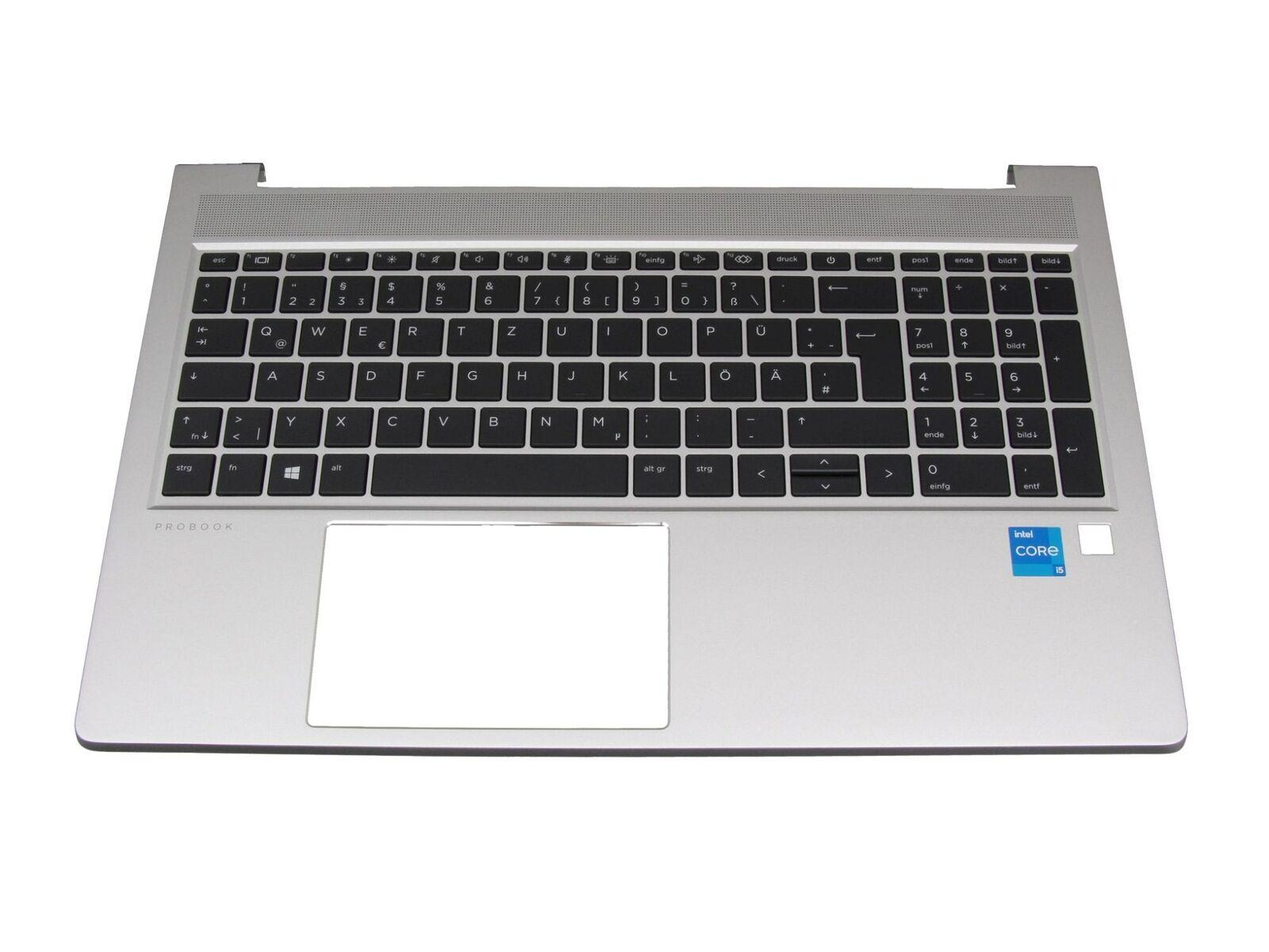0: (669, 272, 715, 311)
1: (230, 273, 275, 311)
2: (278, 273, 324, 310)
3: (327, 272, 372, 310)
4: (375, 272, 421, 310)
5: (424, 273, 470, 311)
6: (473, 272, 519, 311)
7: (522, 272, 568, 311)
8: (570, 272, 616, 311)
9: (619, 272, 666, 311)
a: (253, 358, 301, 400)
accent: (767, 272, 813, 310)
ae: (757, 359, 806, 400)
alt-left: (316, 451, 366, 495)
altgr-right: (630, 451, 679, 495)
b: (475, 403, 525, 446)
c: (373, 403, 423, 446)
caret: (190, 273, 228, 310)
comma: (630, 404, 678, 446)
d: (353, 358, 401, 400)
del: (815, 272, 895, 310)
e: (346, 314, 393, 355)
enter: (842, 315, 907, 400)
f: (403, 359, 450, 399)
g: (454, 359, 500, 400)
h: (504, 359, 552, 400)
hash: (808, 359, 856, 400)
i: (594, 314, 641, 355)
j: (554, 359, 602, 400)
k: (605, 358, 654, 401)
keyboard: (141, 236, 1118, 513)
l: (656, 359, 704, 400)
less: (221, 403, 270, 446)
m: (578, 404, 627, 446)
minus: (732, 404, 781, 446)
n: (527, 404, 576, 446)
o: (644, 314, 690, 355)
oe: (707, 359, 754, 400)
p: (694, 314, 741, 355)
plus: (794, 314, 839, 355)
point: (682, 404, 730, 446)
q: (247, 314, 294, 355)
r: (395, 314, 442, 355)
s: (303, 359, 351, 400)
shift-left: (166, 402, 219, 446)
shift-lock: (176, 358, 251, 399)
shift-right: (784, 403, 907, 446)
space: (368, 451, 627, 495)
ss: (718, 273, 764, 310)
strg-left: (160, 450, 213, 494)
strg-right: (683, 451, 732, 496)
t: (445, 314, 492, 355)
tab: (182, 314, 246, 355)
u: (544, 314, 591, 355)
ue: (743, 314, 790, 355)
v: (424, 403, 473, 446)
w: (297, 314, 343, 355)
x: (322, 404, 371, 446)
y: (271, 404, 320, 447)
z: (494, 314, 542, 355)
